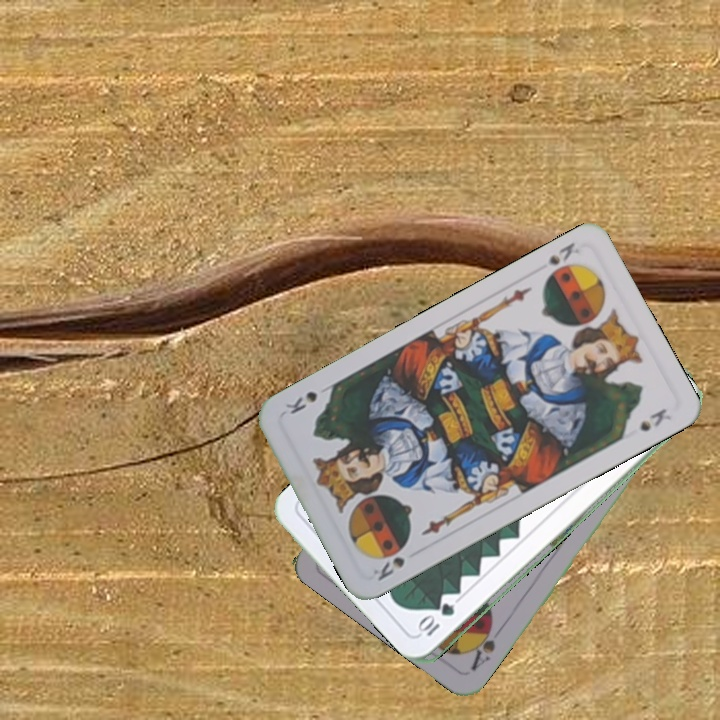G10: (416, 600, 458, 639)
SA: (464, 617, 505, 673)
SK: (368, 552, 408, 584), (544, 238, 582, 268)
